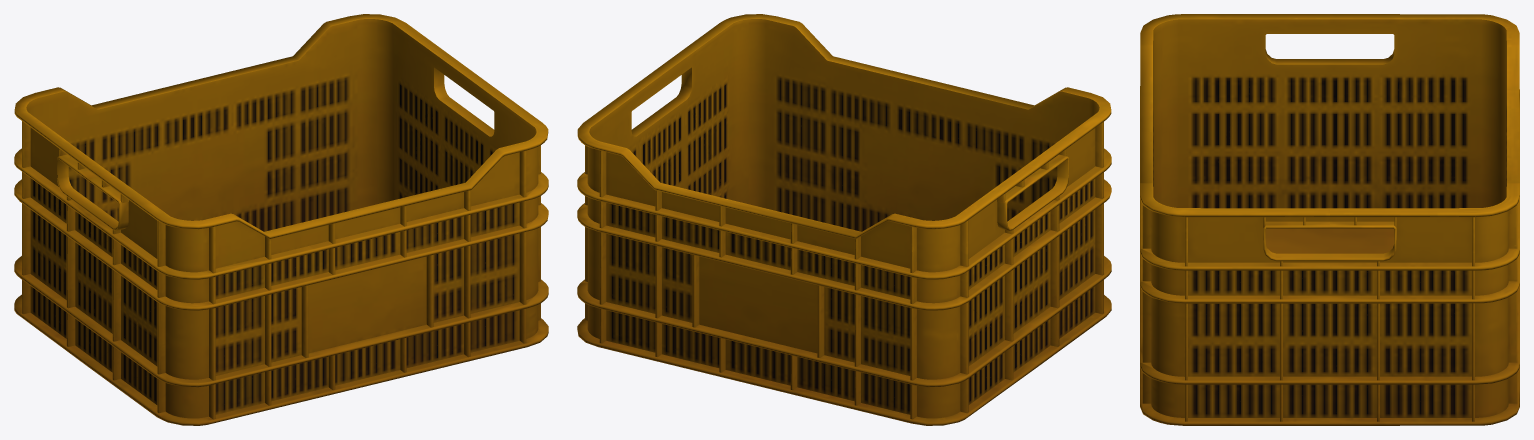
3 views of the same model, side by side, from view 1: azimuth 30°, elevation 25°; view 2: azimuth 150°, elevation 25°; view 3: azimuth 270°, elevation 25° (orthographic). The views are drawn at different scales.
Parts seen in each view (by area): view 1: plastic_crate_02; view 2: plastic_crate_02; view 3: plastic_crate_02.
Boxes of the visible parts, x1,y1,x2,y2 form: plastic_crate_02: (14, 14, 548, 425); plastic_crate_02: (577, 14, 1111, 425); plastic_crate_02: (1140, 14, 1519, 425).
Bounding box in the file's own units: 0.5055 × 0.2541 × 0.4055.
Materials: 1 (1 with a texture image).
